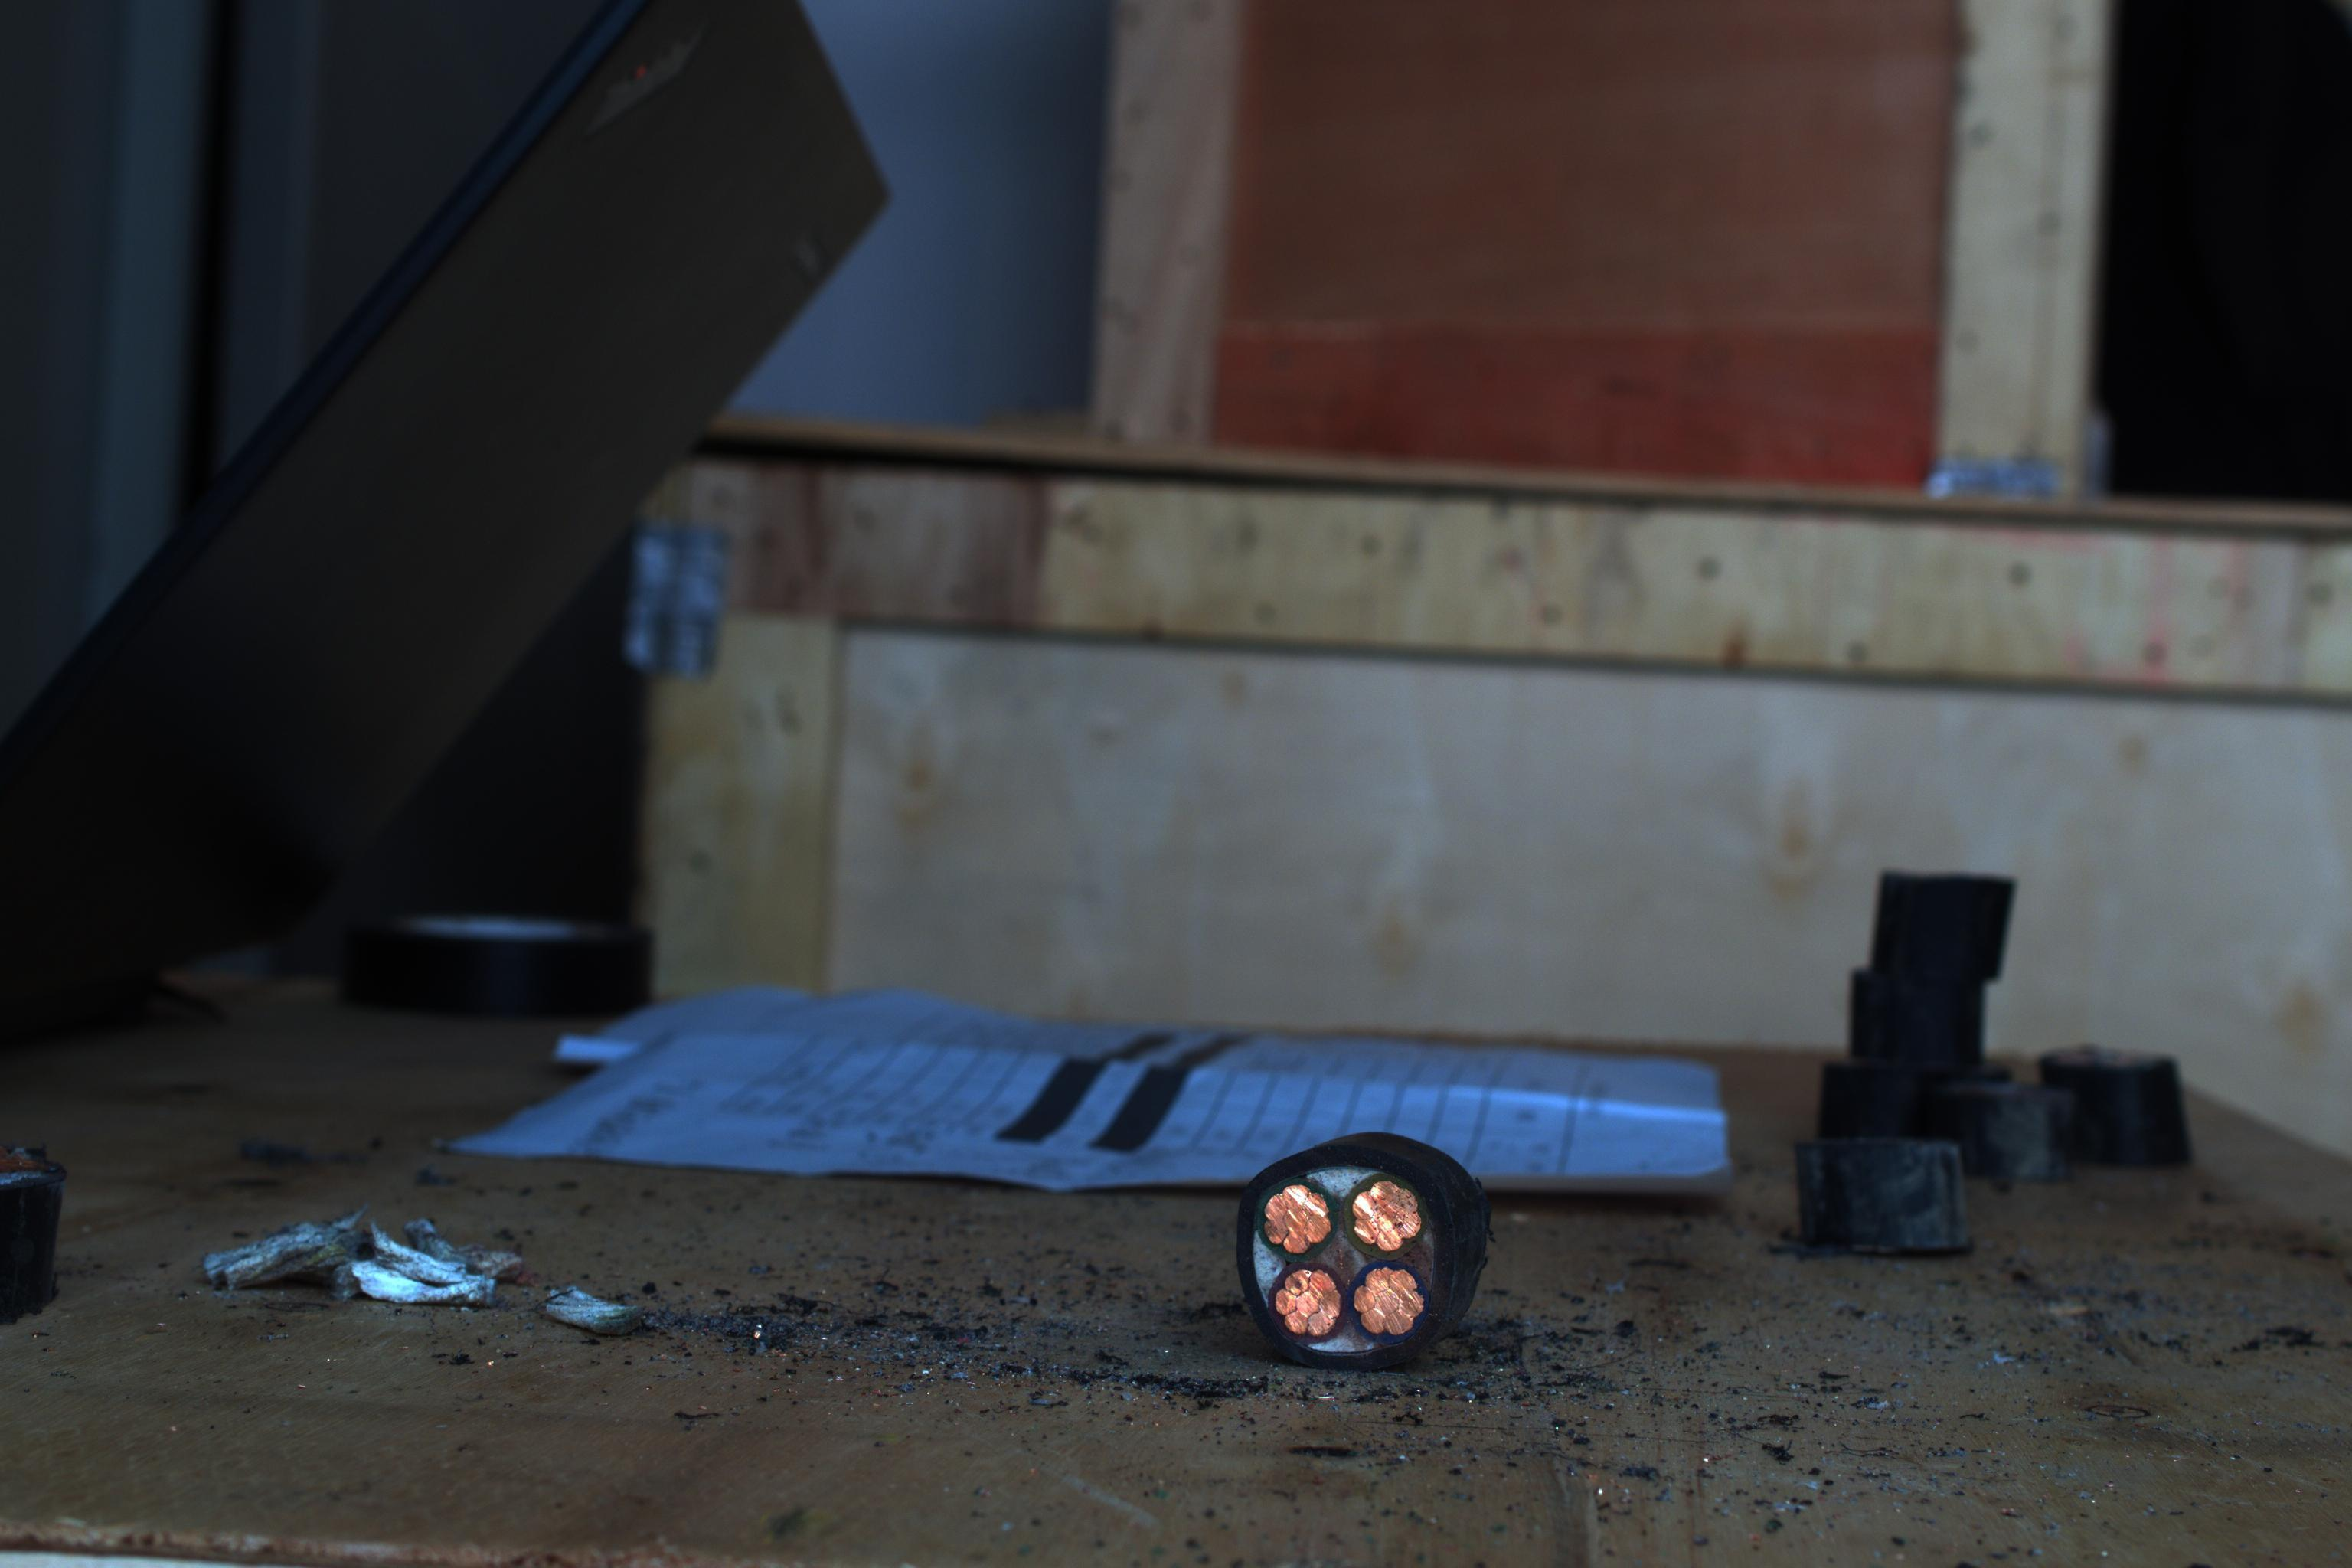YJV_0.6_1kV_4x35: (1225, 1130, 1465, 1363)
